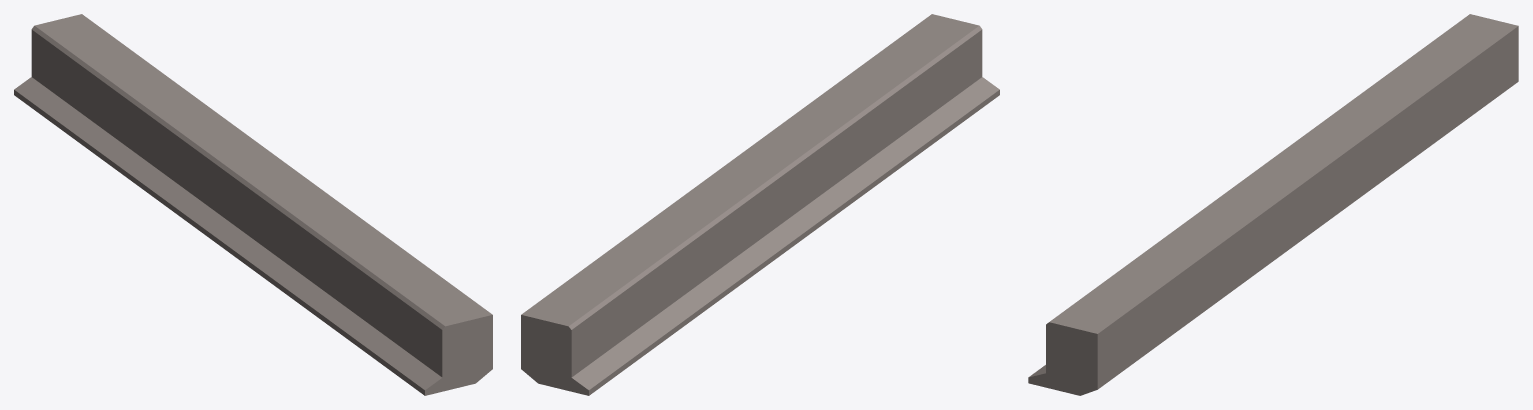
The model's file is Road_17.fbx.
3 views of the same model, side by side, from view 1: azimuth 30°, elevation 25°; view 2: azimuth 150°, elevation 25°; view 3: azimuth 330°, elevation 25° (orthographic). The views are drawn at different scales.
Parts seen in each view (by area): view 1: Road_17; view 2: Road_17; view 3: Road_17.
Part boxes in pixels (x1=…): Road_17: x1=14, y1=14, x2=492, y2=395; Road_17: x1=521, y1=14, x2=999, y2=395; Road_17: x1=1028, y1=14, x2=1518, y2=395.
Size of the model in its own units: 0.5719 by 0.5208 by 6.
